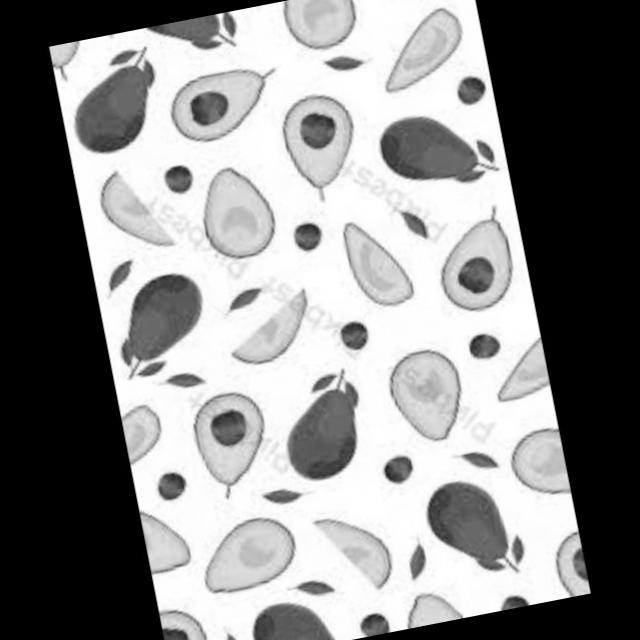avocado: (174, 144, 306, 279), (106, 252, 232, 390), (411, 468, 538, 594), (369, 96, 506, 211), (307, 480, 418, 612), (263, 87, 372, 209), (328, 208, 430, 334), (268, 380, 384, 490), (226, 268, 334, 386), (371, 0, 487, 109), (376, 345, 476, 464), (155, 62, 281, 156), (78, 162, 192, 261), (445, 202, 536, 325), (182, 384, 274, 500), (78, 49, 174, 156), (190, 512, 298, 602), (125, 8, 260, 78), (482, 322, 558, 424), (272, 0, 395, 62), (245, 585, 348, 640), (118, 388, 180, 468), (140, 498, 192, 584), (547, 524, 593, 599), (157, 593, 226, 640)
